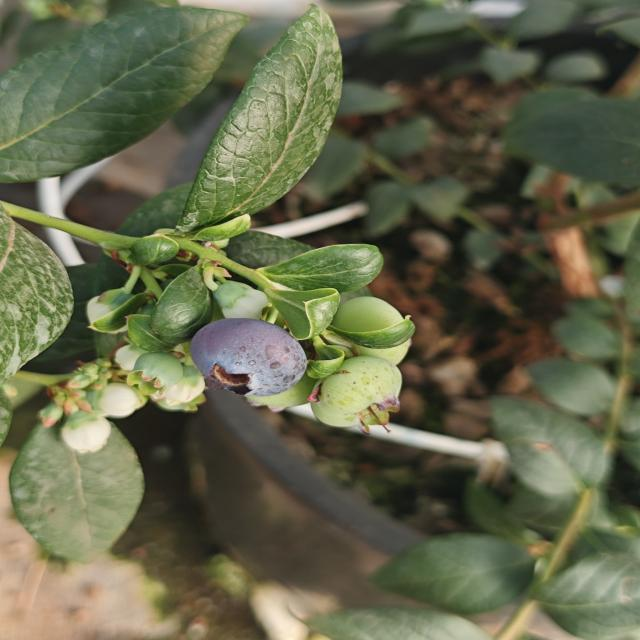ripe: (195, 316, 312, 406)
